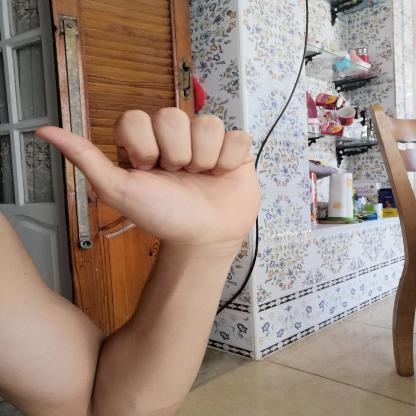DAD: (22, 100, 275, 258)
